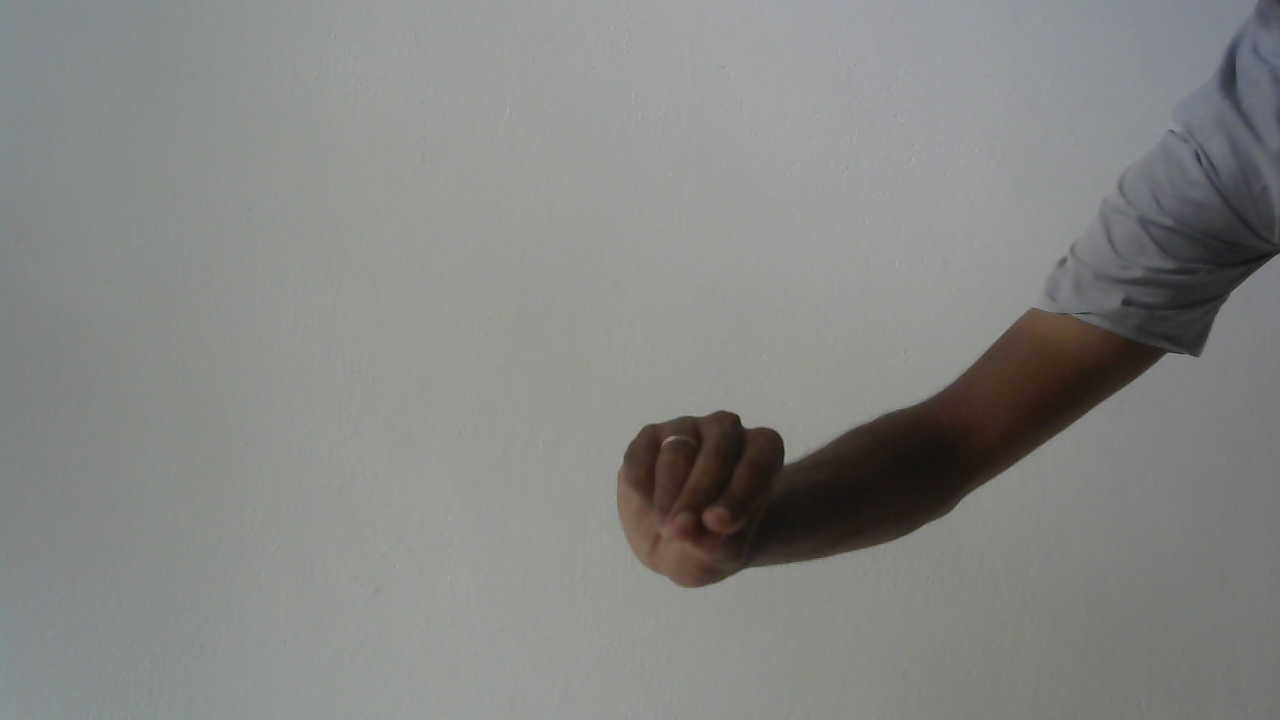no: (602, 391, 812, 621)
